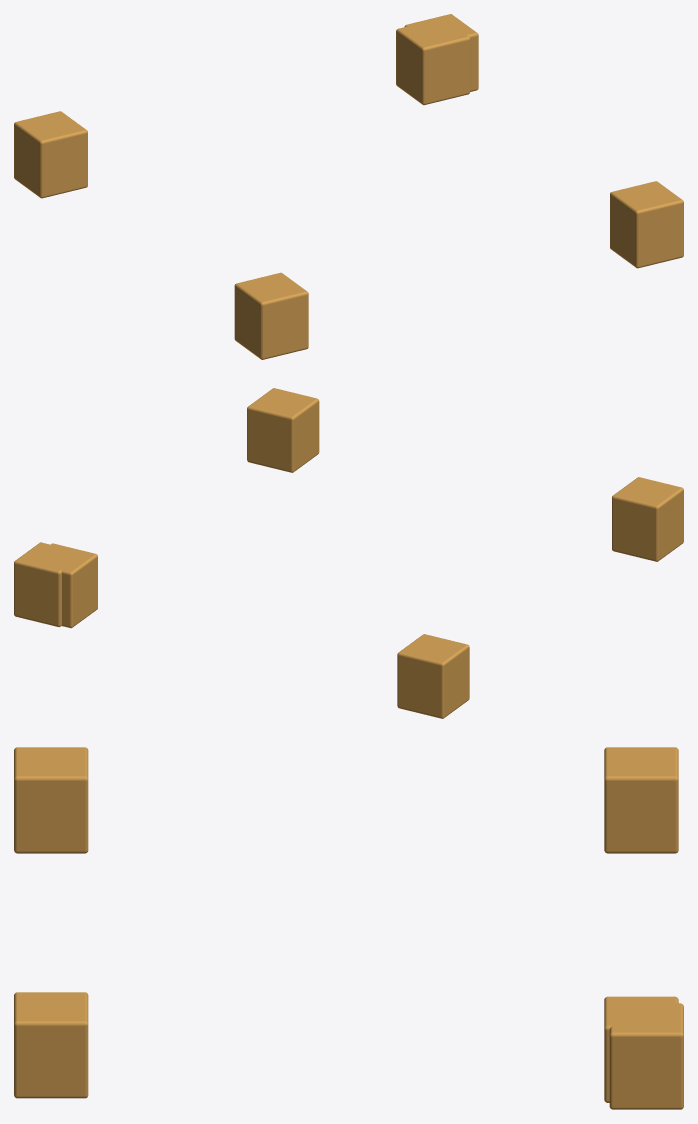
The picture shows the model from 3 angles, top to bottom: view 1: azimuth 30°, elevation 25°; view 2: azimuth 150°, elevation 25°; view 3: azimuth 270°, elevation 25°; orthographic projection. The views are drawn at different scales.
Visible parts, largest first — view 1: Mesh_Mesh_head_geo.001_lambert2SG.001; view 2: Mesh_Mesh_head_geo.001_lambert2SG.001; view 3: Mesh_Mesh_head_geo.001_lambert2SG.001.
Part boxes in pixels (left/top/right/bottom): Mesh_Mesh_head_geo.001_lambert2SG.001: left=14, top=14, right=683, bottom=359; Mesh_Mesh_head_geo.001_lambert2SG.001: left=14, top=388, right=683, bottom=718; Mesh_Mesh_head_geo.001_lambert2SG.001: left=14, top=747, right=683, bottom=1109.
Size of the model in its own units: 128 by 16 by 126.
